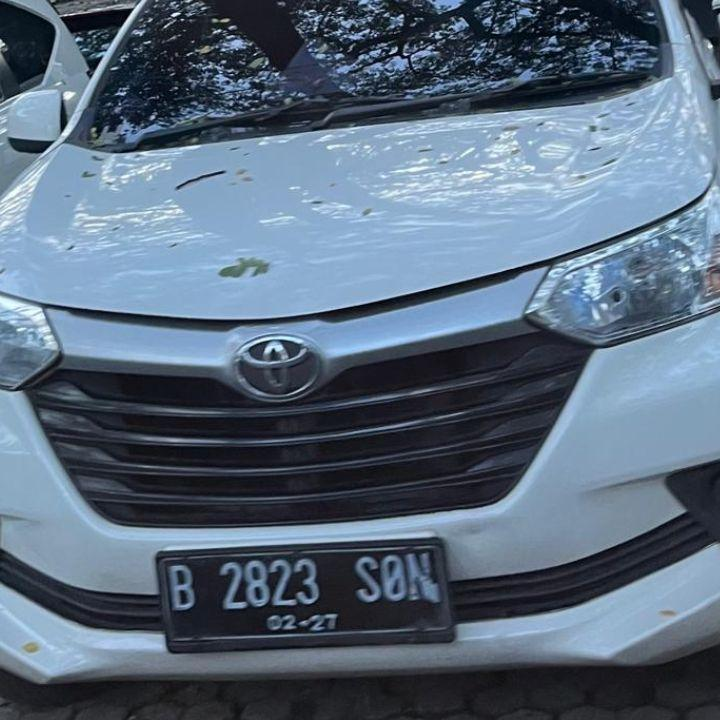plat: (159, 540, 453, 652)
